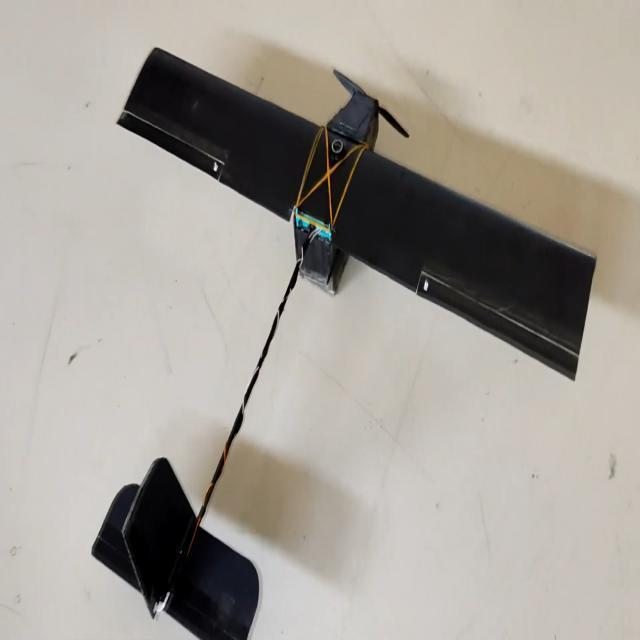iha: (94, 50, 598, 640)
